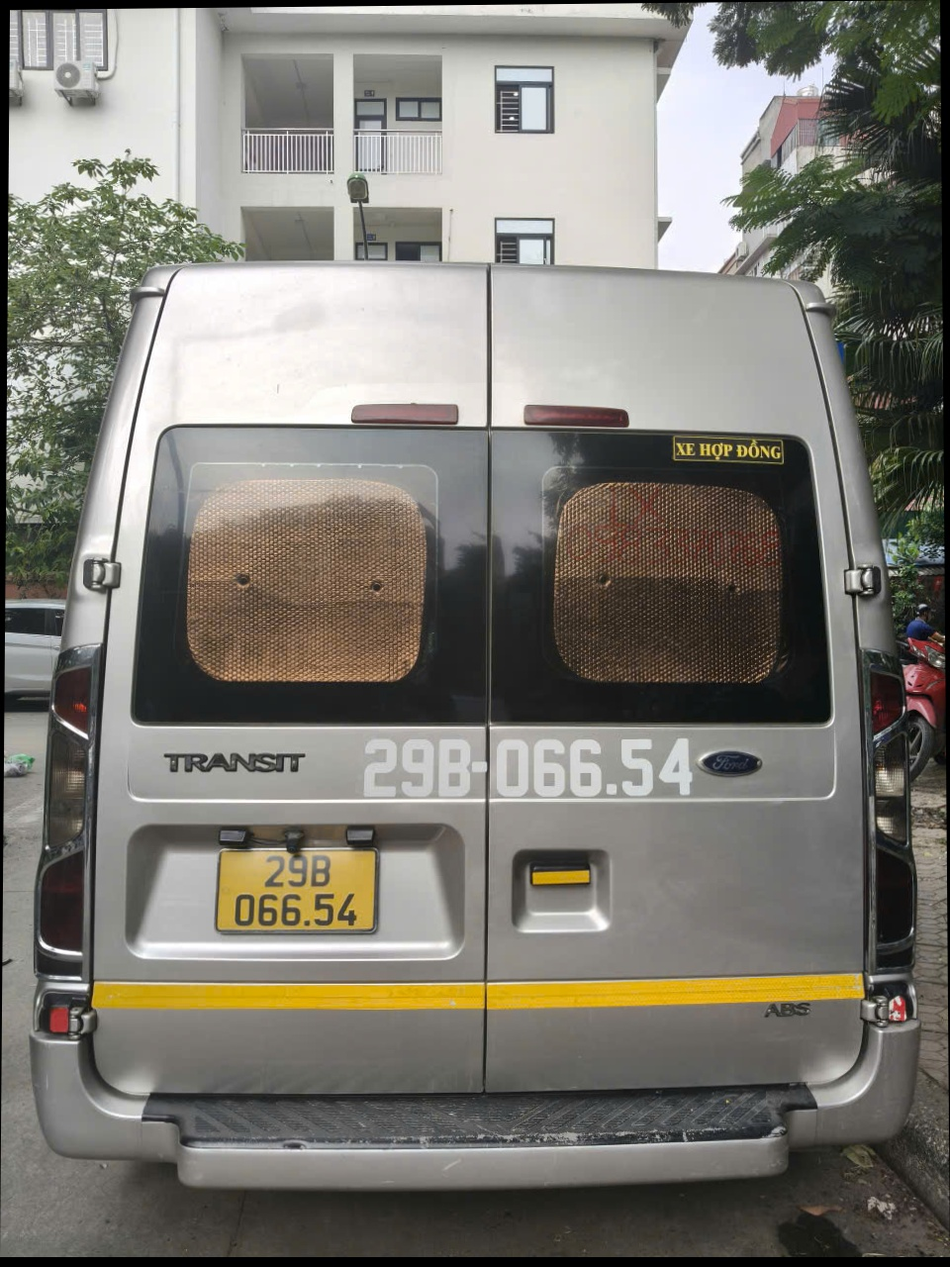plate: (153, 758, 315, 786)
